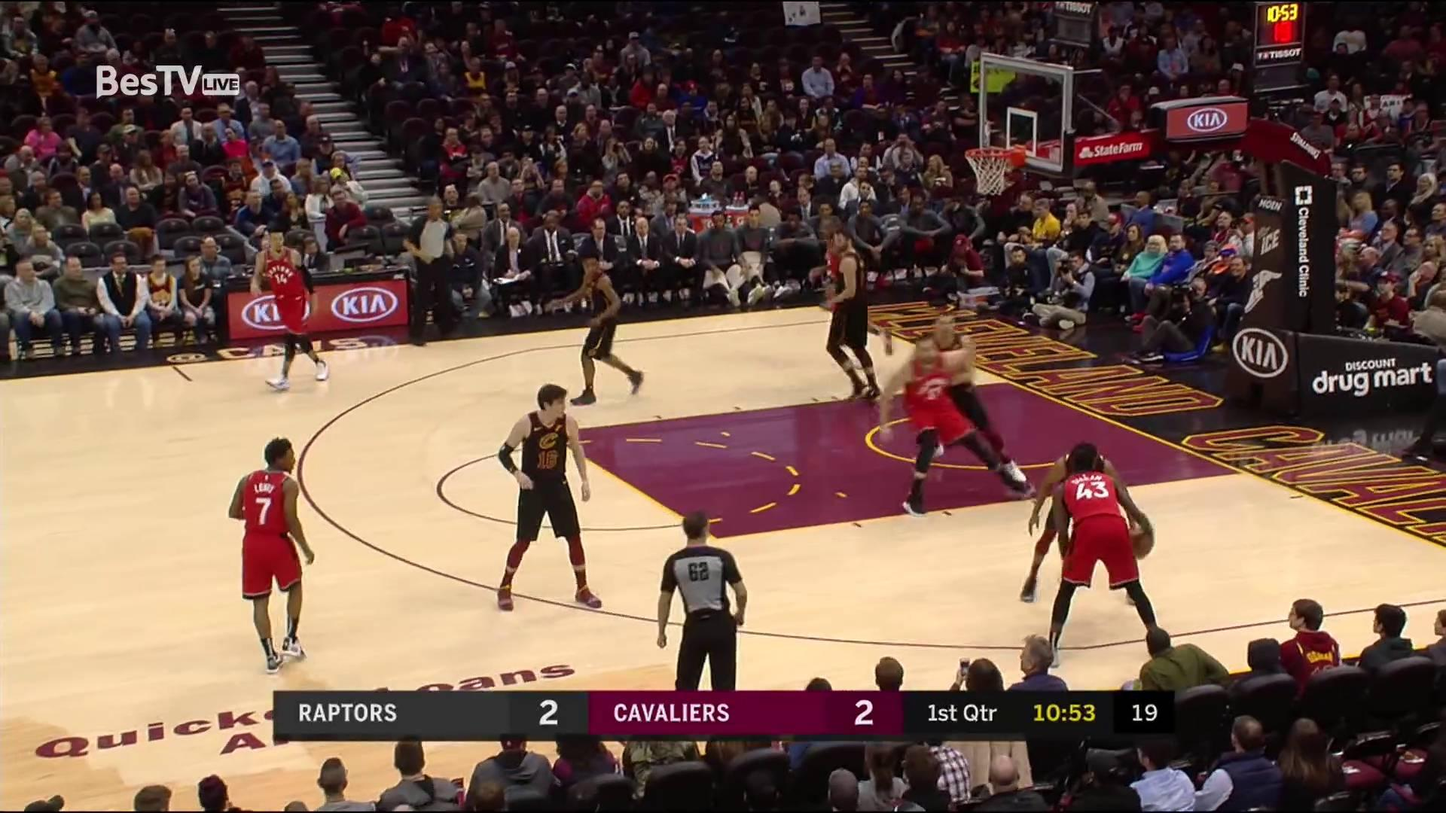basketball: (1124, 527, 1154, 560)
